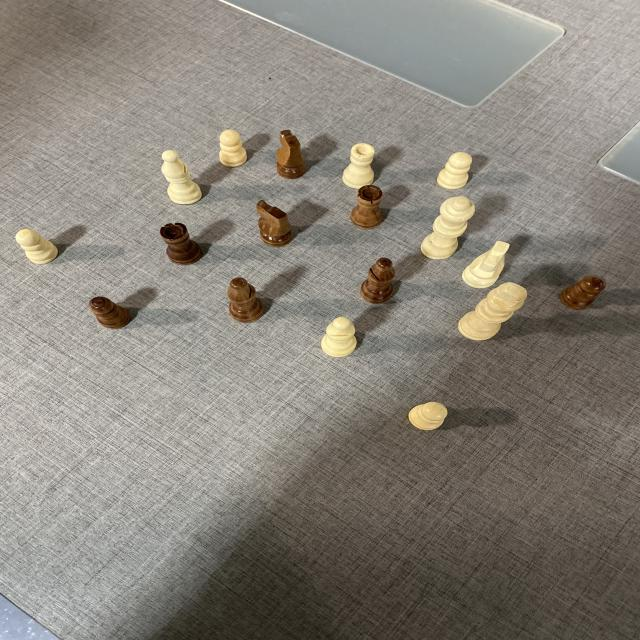Black-Bishop: (360, 256, 399, 306), (224, 277, 266, 322)
Black-Knight: (254, 199, 297, 248), (274, 129, 308, 180)
Black-Pawn: (558, 275, 608, 310), (88, 296, 132, 328)
Black-Rook: (160, 223, 203, 266), (352, 185, 384, 230)
White-Bishop: (158, 150, 205, 206), (319, 316, 359, 358)
White-King: (456, 282, 530, 342)
White-Knight: (461, 240, 512, 289)
White-Pawn: (14, 230, 59, 264), (436, 152, 474, 190), (406, 401, 449, 431), (217, 128, 249, 168)
White-Queen: (421, 196, 476, 261)
White-Rook: (342, 142, 376, 190)
